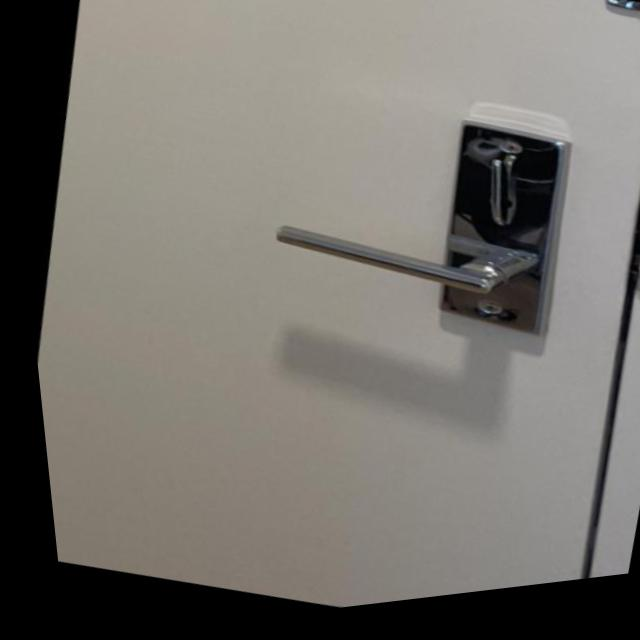door_handle: (238, 176, 567, 376)
